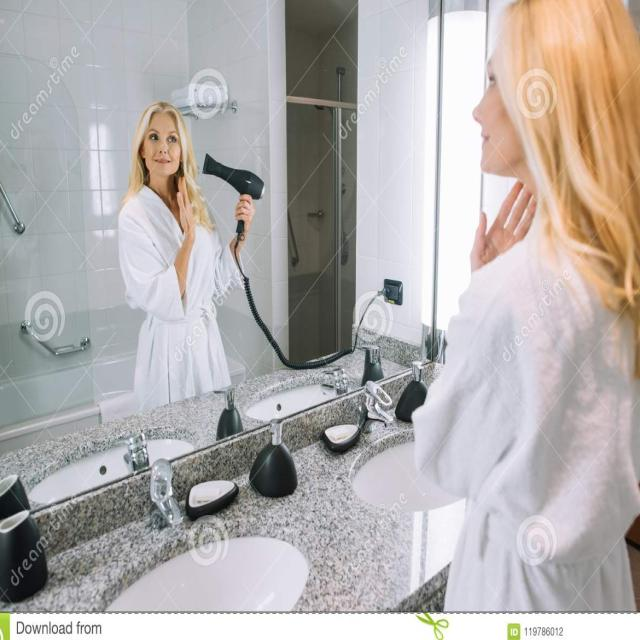dryer: (195, 136, 273, 268)
